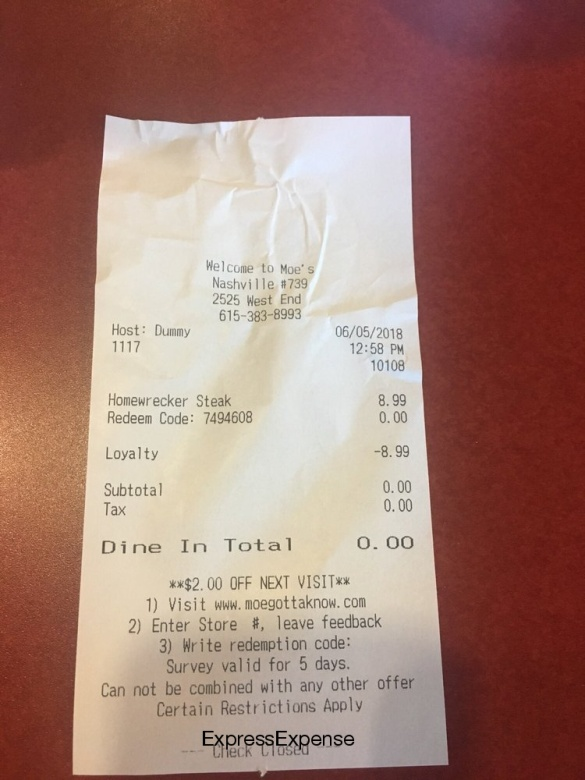Additional details: (89, 568, 422, 765)
Purchase summary: (95, 319, 426, 563)
Receipt: (69, 119, 451, 777)
Shop details: (201, 248, 325, 326)
